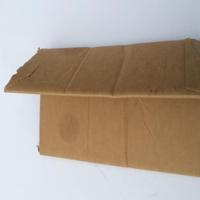paper: (3, 36, 200, 177)
